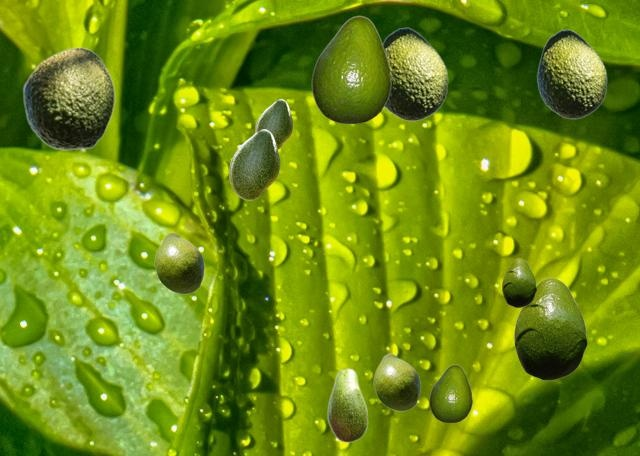avocado: (22, 47, 114, 149), (311, 15, 390, 122), (514, 277, 586, 379), (536, 29, 606, 118), (383, 27, 447, 120), (229, 129, 278, 199), (327, 367, 367, 442), (154, 232, 203, 293), (373, 353, 419, 410), (429, 364, 471, 421), (255, 99, 291, 149), (502, 258, 535, 306)
